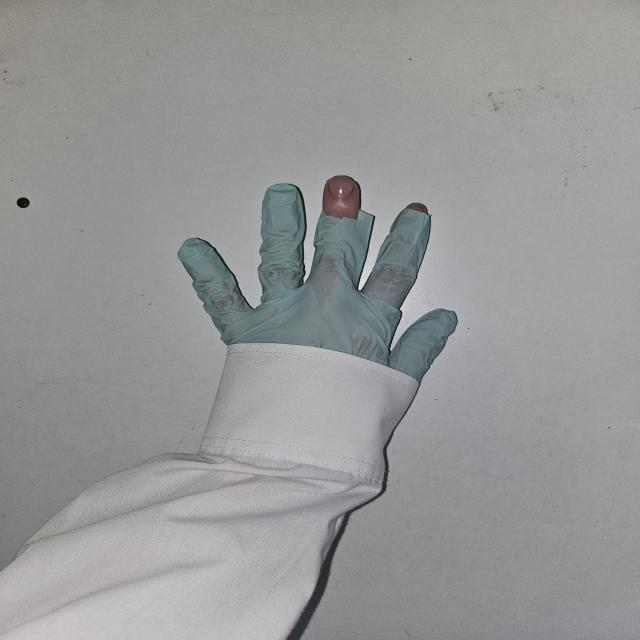gloves_damaged: (176, 172, 459, 382)
